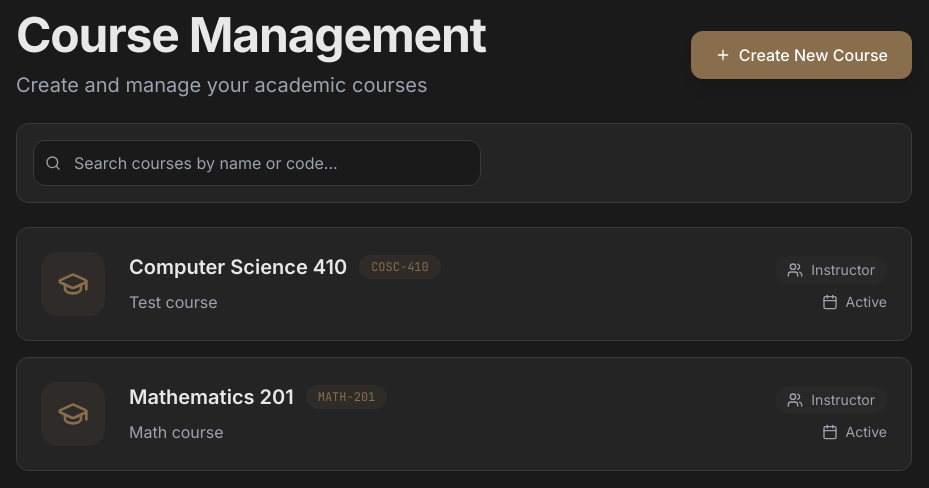
CoursesPage › filters courses by search query
Expected: the text "COSC-410" is shown, [359,255,441,279]
Search for "Computer"
Type "Computer" into the field with placeholder "Search courses by name or code...". click: point(257, 163)
box: [33,140,481,186]
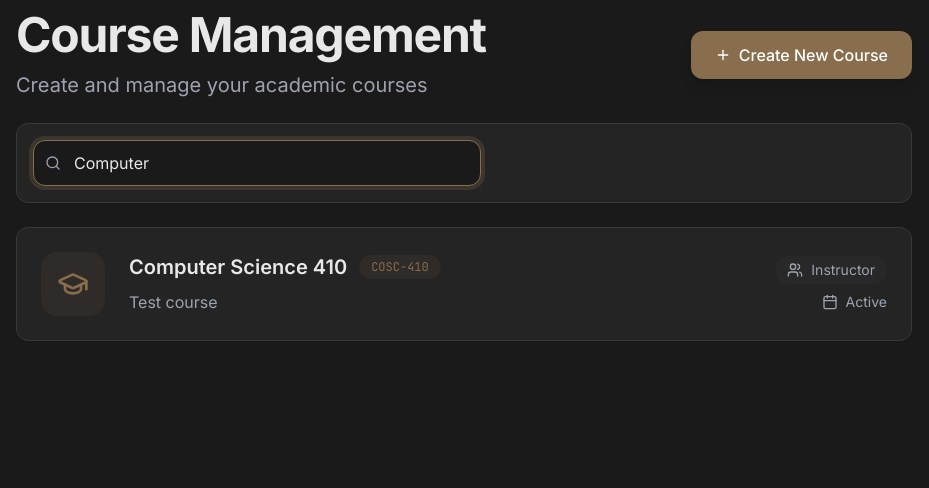
Expected: the heading "Computer Science 410" is shown, [129,253,347,281]
Expected: the heading "Mathematics 201" is gone
